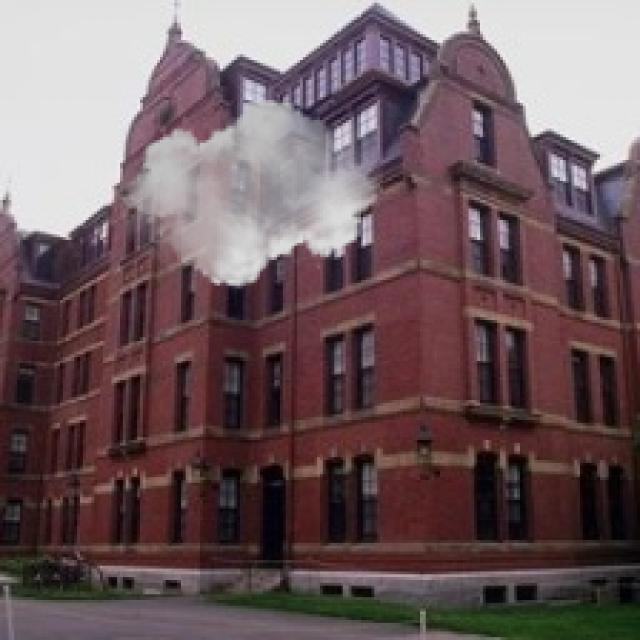smoke: (120, 92, 383, 294)
